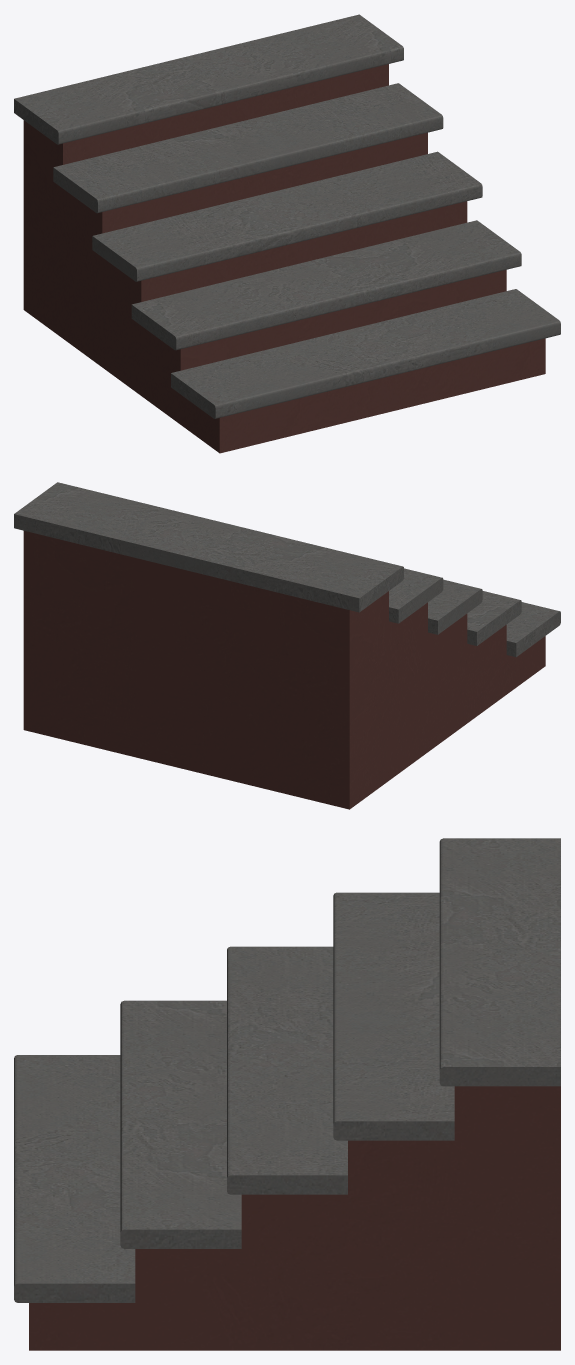
File: Sm_Steps01.fbx
3 views of the same model, one above another, from view 1: azimuth 30°, elevation 25°; view 2: azimuth 150°, elevation 25°; view 3: azimuth 270°, elevation 25° (orthographic). The views are drawn at different scales.
Visible parts, largest first — view 1: Sm_Steps01; view 2: Sm_Steps01; view 3: Sm_Steps01.
Part boxes in pixels (x1=…): Sm_Steps01: x1=14, y1=14, x2=560, y2=453; Sm_Steps01: x1=14, y1=482, x2=560, y2=809; Sm_Steps01: x1=14, y1=838, x2=560, y2=1350.
Bounding box in the file's own units: 181 × 183 × 107.
2 materials, 2 textured.
